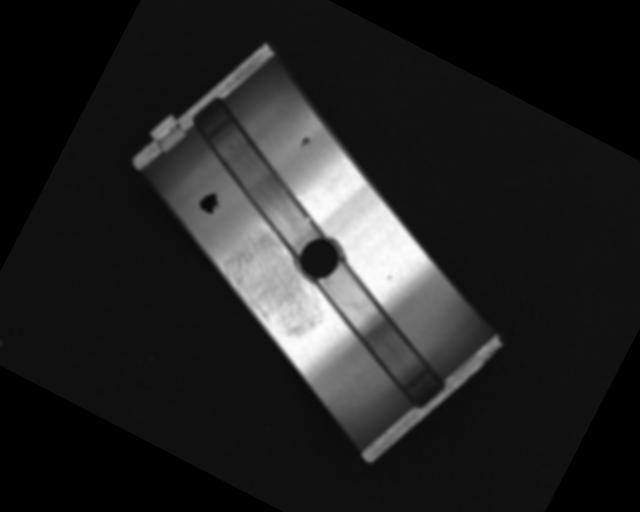blot: (196, 188, 224, 217)
bruise: (296, 132, 313, 151), (386, 273, 393, 280)
gap: (156, 91, 355, 262), (288, 256, 477, 417)
hole: (284, 222, 354, 292)
nick: (295, 166, 335, 210)
scratch: (203, 221, 347, 349)
